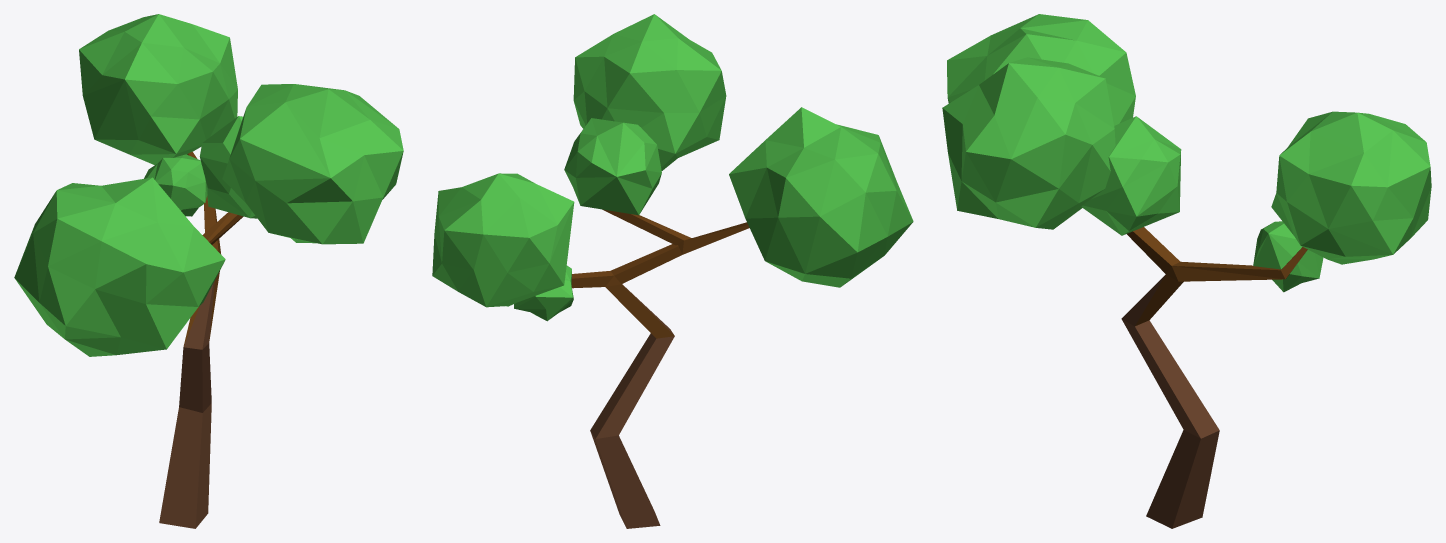
The model's file is tree.glb.
3 renders of one model, left to right at view 1: azimuth 30°, elevation 25°; view 2: azimuth 150°, elevation 25°; view 3: azimuth 270°, elevation 25°, orthographic. The views are drawn at different scales.
Parts seen in each view (by area): view 1: дерева.001; view 2: дерева.001; view 3: дерева.001.
Boxes of the visible parts, x1,y1,x2,y2 form: дерева.001: (14,14,403,528); дерева.001: (432,14,913,528); дерева.001: (942,14,1431,528).
Size of the model in its own units: 4.14 by 5.44 by 4.96.
